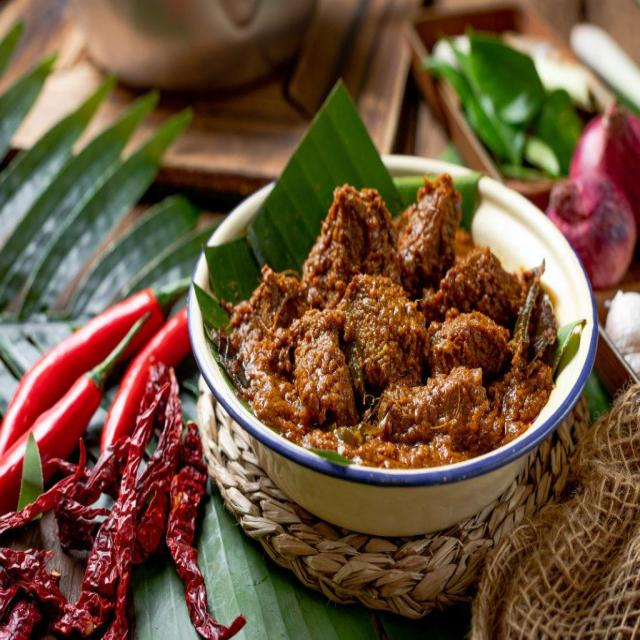Rendang: (214, 170, 576, 467)
